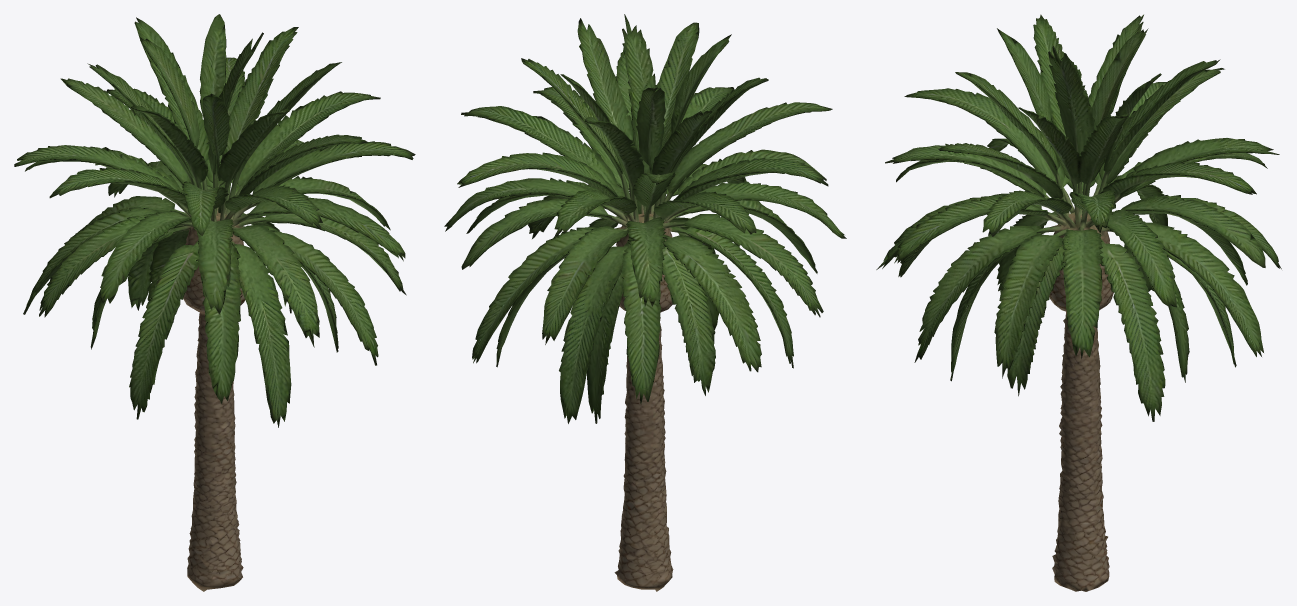
The model's file is 457eb181-45ad-4a7c-b07e-6ac9b0ce58cb_model_url.glb.
3 renders of one model, left to right at view 1: azimuth 30°, elevation 25°; view 2: azimuth 150°, elevation 25°; view 3: azimuth 270°, elevation 25°, orthographic.
Visible parts, largest first — view 1: tripo_node_457eb181-45ad-4a7c-b07e-6ac9b0ce58cb; view 2: tripo_node_457eb181-45ad-4a7c-b07e-6ac9b0ce58cb; view 3: tripo_node_457eb181-45ad-4a7c-b07e-6ac9b0ce58cb.
Boxes of the visible parts, x1,y1,x2,y2 form: tripo_node_457eb181-45ad-4a7c-b07e-6ac9b0ce58cb: [14, 14, 415, 591]; tripo_node_457eb181-45ad-4a7c-b07e-6ac9b0ce58cb: [444, 14, 846, 591]; tripo_node_457eb181-45ad-4a7c-b07e-6ac9b0ce58cb: [876, 14, 1281, 591].
Bounding box in the file's own units: 0.6593 × 1 × 0.6569.
1 material, 1 textured.
